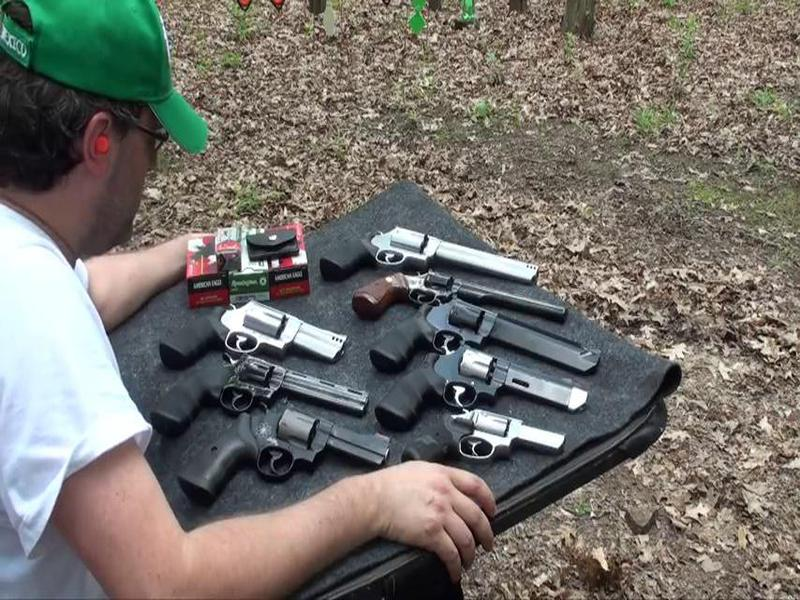Revolver: (359, 353, 590, 434)
